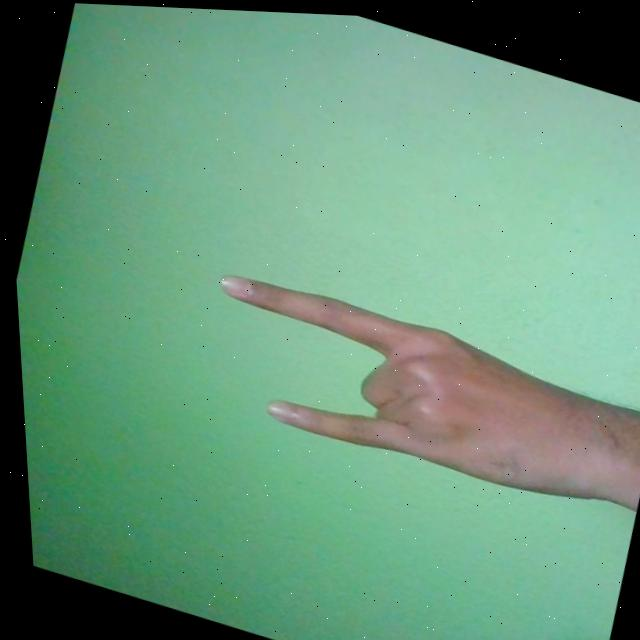Rock On: (180, 255, 640, 525)
